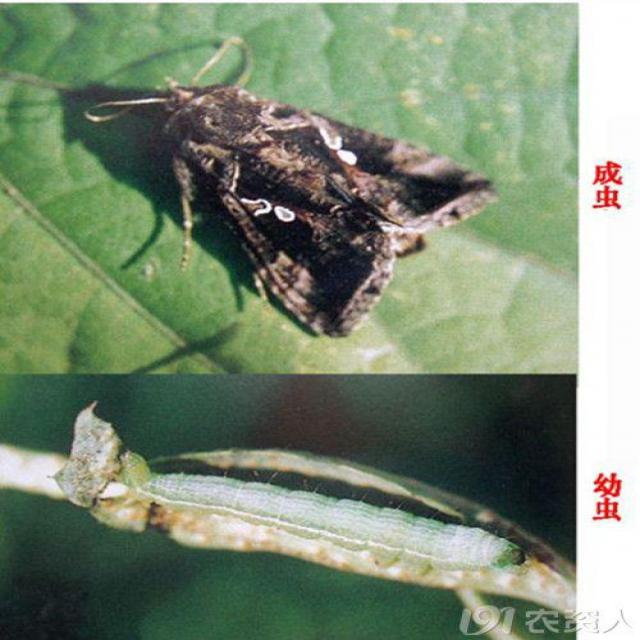BeetArmyWorm-Adult-: (67, 32, 505, 342)
BeetArmyWorm-Larva-: (123, 450, 529, 575)
